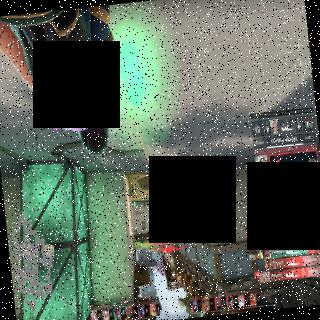ENEMY-BODY: (155, 176, 165, 202)
ENEMY-HEAD: (160, 197, 162, 202)
